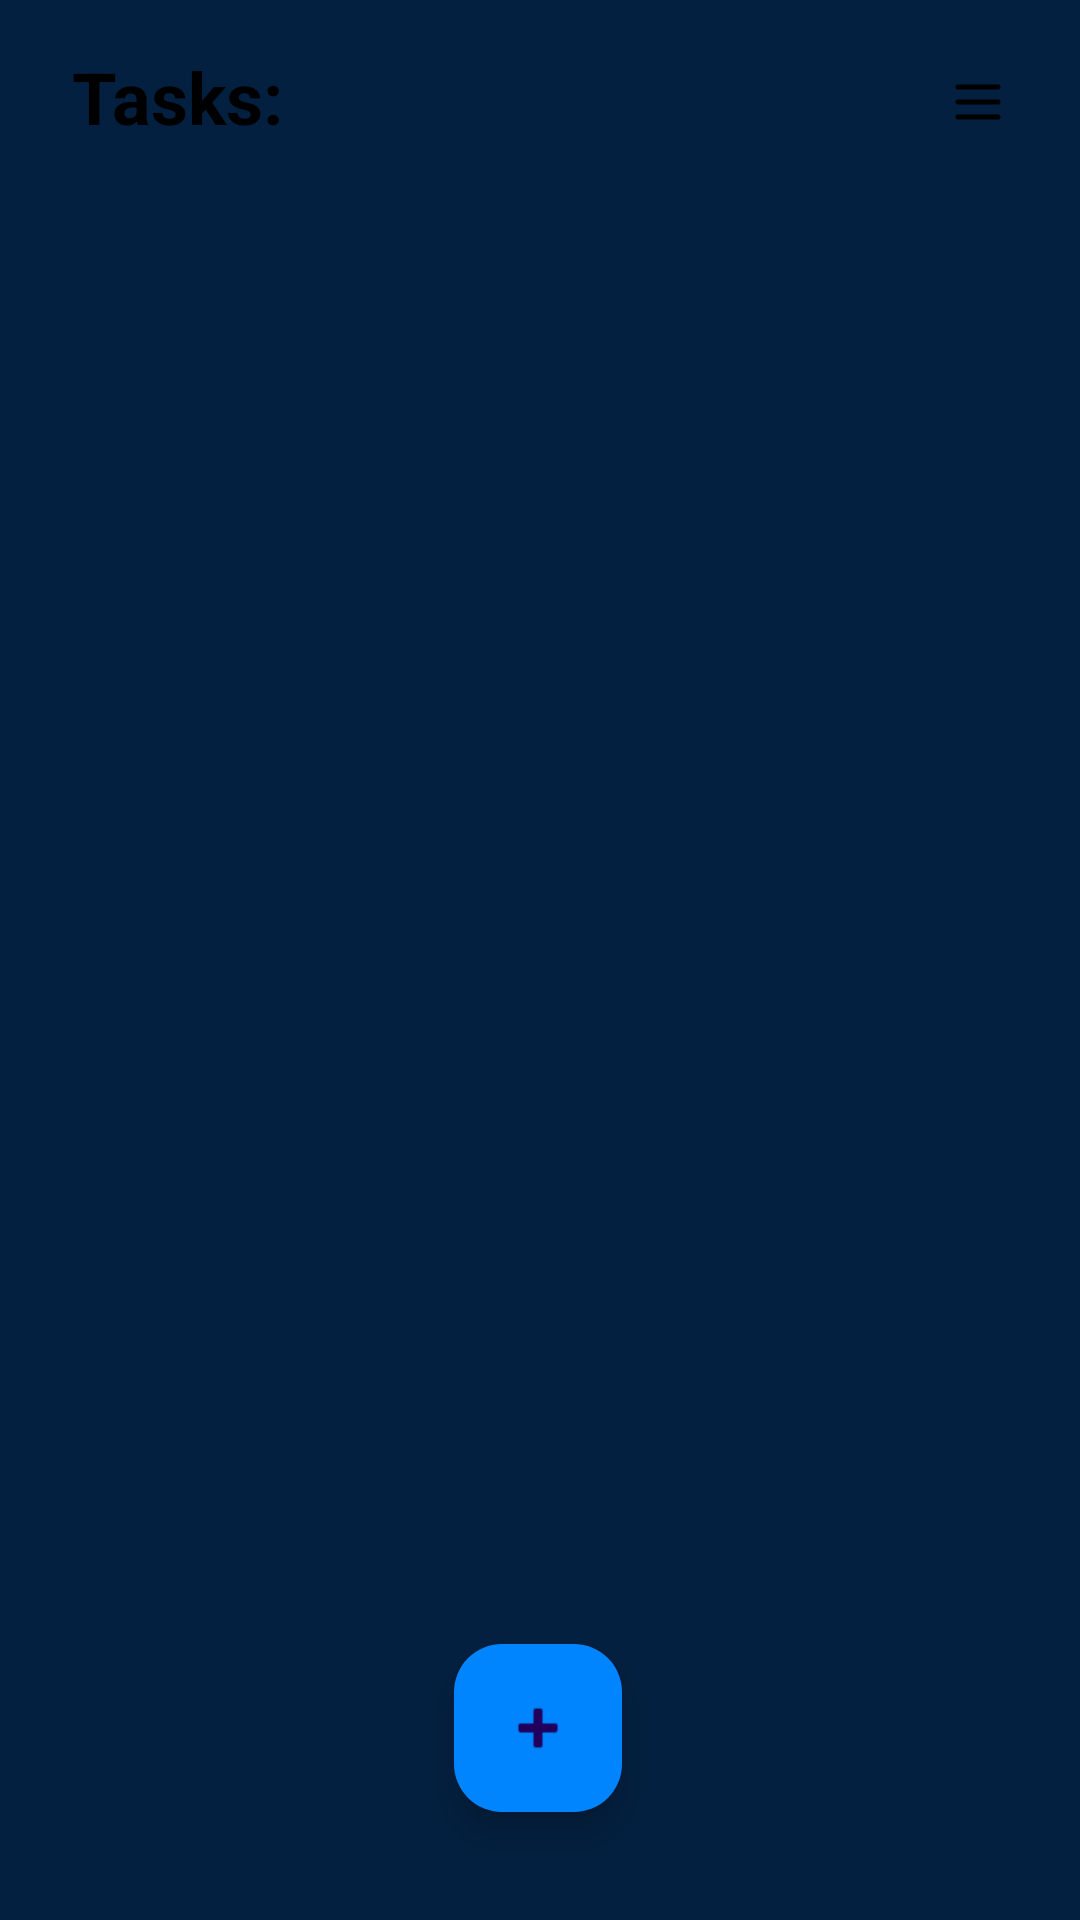

Point at icon controls on the screen. Image size 1080 × 1920, points as (x,y).
add: (538,1728)
main settings menu: (978,102)
